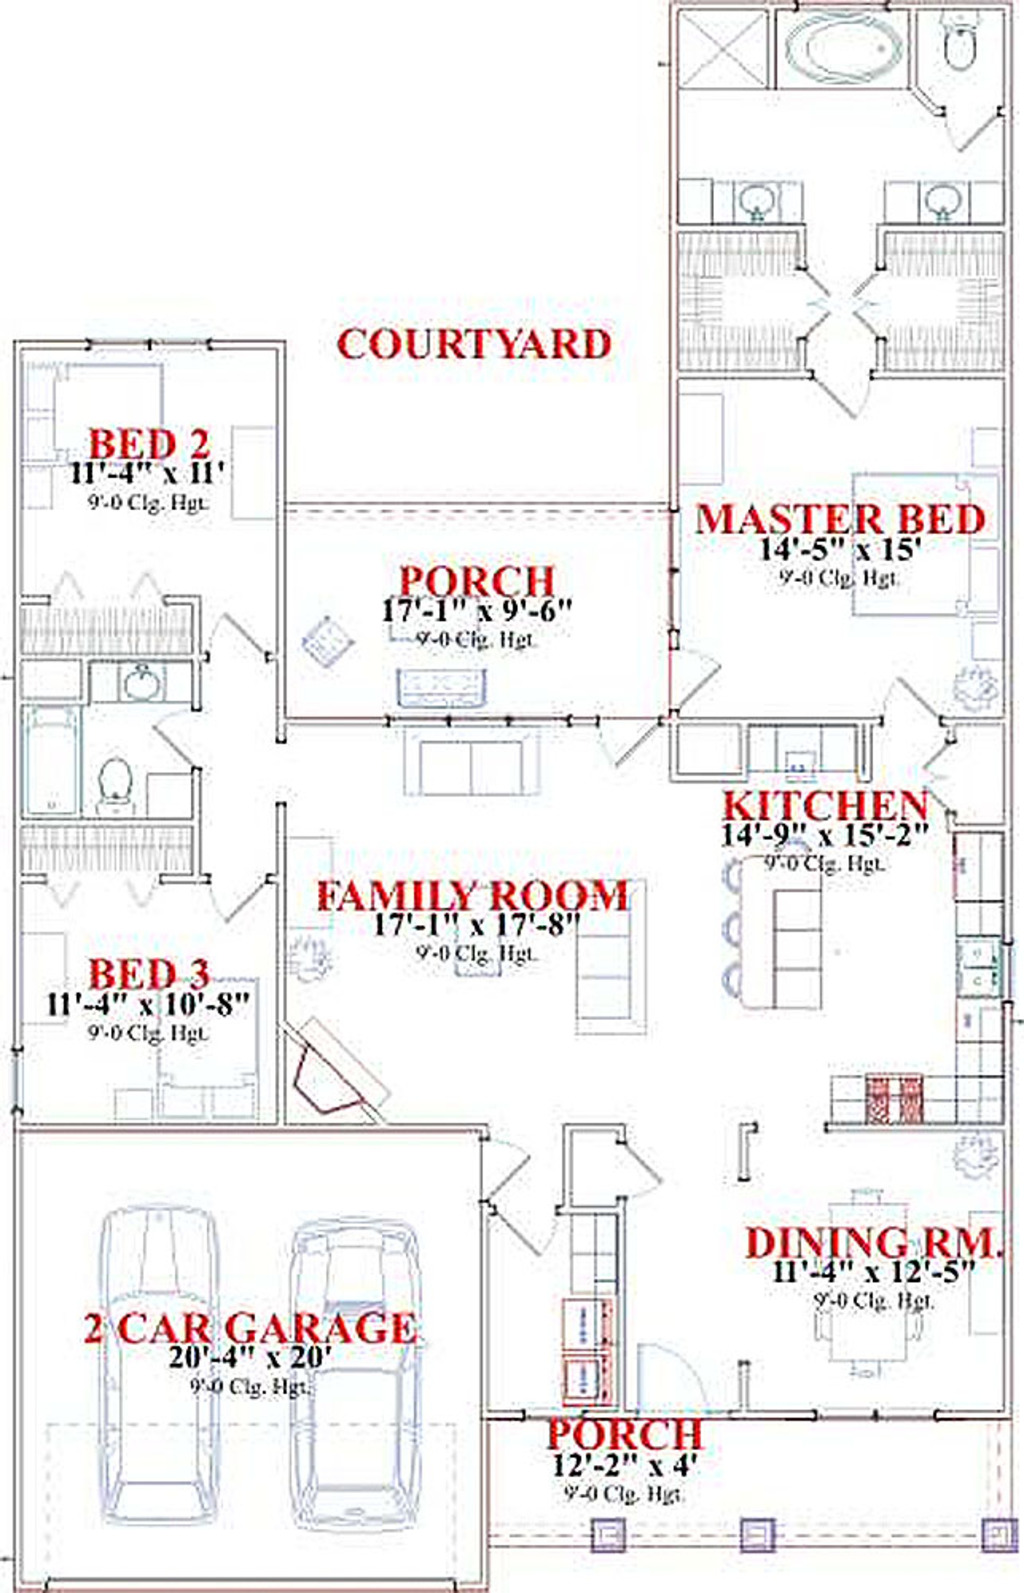bed: (854, 460, 1012, 628), (20, 362, 188, 484), (142, 972, 261, 1120)
dining_table: (805, 1178, 933, 1355)
door: (620, 1328, 715, 1413), (907, 723, 981, 813), (812, 349, 881, 428), (598, 709, 668, 769), (490, 1196, 563, 1252), (671, 637, 727, 709), (207, 872, 284, 923), (476, 1138, 539, 1201), (146, 711, 210, 762), (207, 613, 268, 665), (612, 1143, 668, 1199), (877, 672, 932, 723)
kitchen_bar: (712, 832, 829, 1035)
large_sink: (946, 10, 1007, 89), (88, 761, 146, 819)
large_sofa: (556, 862, 654, 1038), (390, 716, 558, 813)
small_sink: (851, 160, 1022, 230), (700, 152, 810, 238), (91, 659, 217, 709)
tub: (7, 695, 81, 823)
twin_sink: (951, 945, 1021, 1026)
